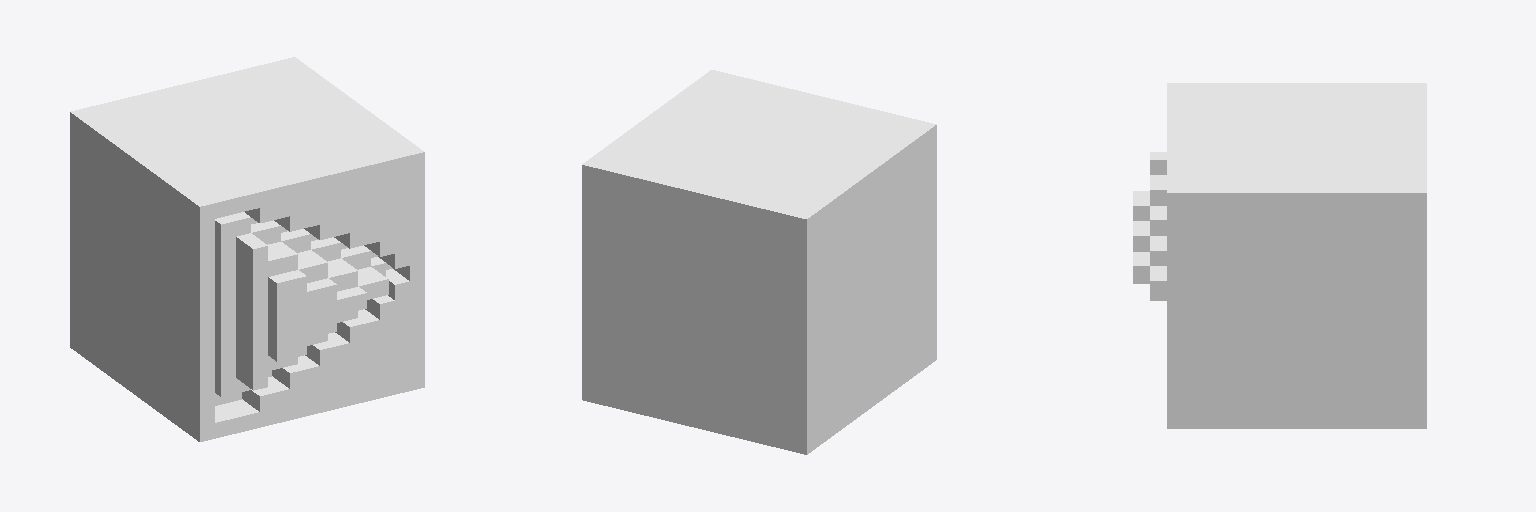
The model's file is play_cube.obj.
3 views of the same model, side by side, from view 1: azimuth 30°, elevation 25°; view 2: azimuth 150°, elevation 25°; view 3: azimuth 270°, elevation 25° (orthographic).
Visible parts, largest first — view 1: object 1; view 2: object 1; view 3: object 1.
Part boxes in pixels (bbox=[...]): object 1: bbox=[70, 57, 424, 441]; object 1: bbox=[582, 70, 936, 454]; object 1: bbox=[1133, 83, 1426, 428].
Bounding box in the file's own units: 1.5 × 1.5 × 1.7.